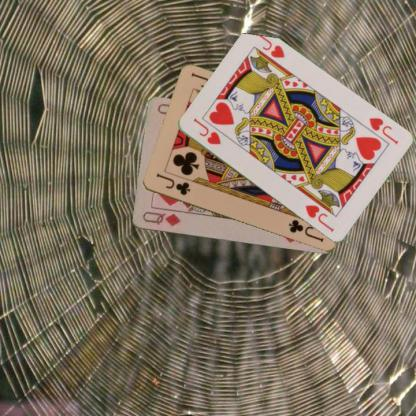Jc: (153, 171, 191, 197)
Jh: (366, 115, 399, 146), (190, 115, 222, 146)
Qd: (140, 209, 181, 228)
